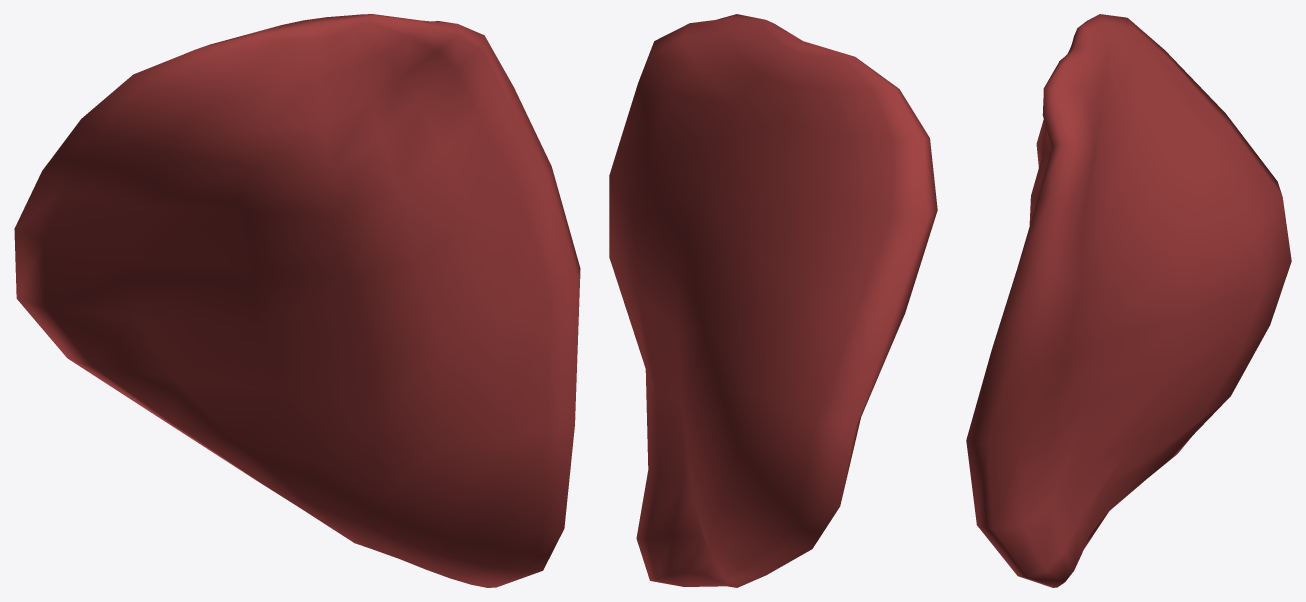
The model's file is trochanteric-bursa-of-gluteus-medius-muscle-l.glb.
The picture shows the model from 3 angles, left to right: view 1: azimuth 30°, elevation 25°; view 2: azimuth 150°, elevation 25°; view 3: azimuth 270°, elevation 25°; orthographic projection. The views are drawn at different scales.
Visible parts, largest first — view 1: Trochanteric bursa of gluteus medius muscle.l; view 2: Trochanteric bursa of gluteus medius muscle.l; view 3: Trochanteric bursa of gluteus medius muscle.l.
Part boxes in pixels (x1=…): Trochanteric bursa of gluteus medius muscle.l: x1=14, y1=14, x2=580, y2=587; Trochanteric bursa of gluteus medius muscle.l: x1=609, y1=14, x2=937, y2=587; Trochanteric bursa of gluteus medius muscle.l: x1=966, y1=14, x2=1291, y2=587.
Size of the model in its own units: 0.0161 by 0.0226 by 0.0139.
